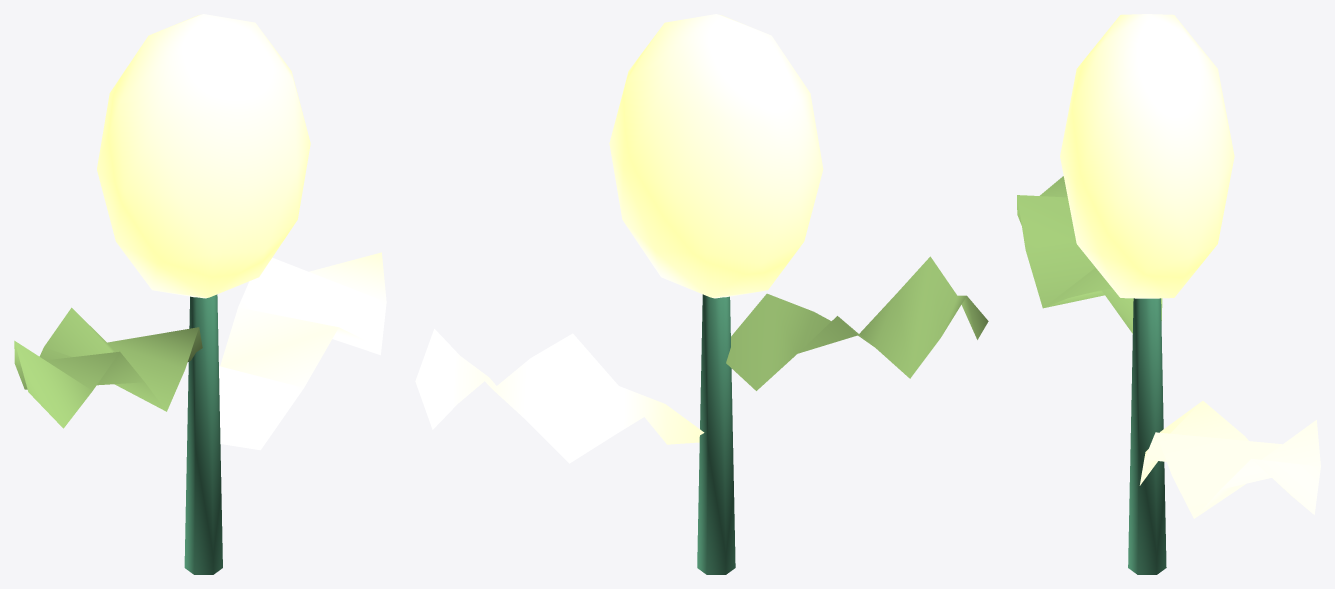
Rendered from resource_kelp.glb.
3 renders of one model, left to right at view 1: azimuth 30°, elevation 25°; view 2: azimuth 150°, elevation 25°; view 3: azimuth 270°, elevation 25°, orthographic.
Visible parts, largest first — view 1: resource_kelp; view 2: resource_kelp; view 3: resource_kelp.
Part boxes in pixels (left/top/right/bottom): resource_kelp: left=14, top=14, right=386, bottom=574; resource_kelp: left=415, top=14, right=988, bottom=574; resource_kelp: left=1017, top=14, right=1320, bottom=574.
Bounding box in the file's own units: 0.6003 × 0.7 × 0.3481.
